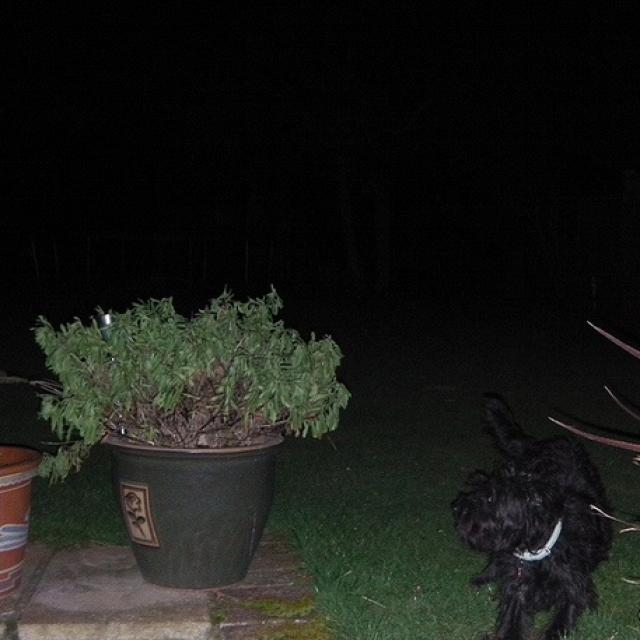Dog: (426, 397, 630, 640)
